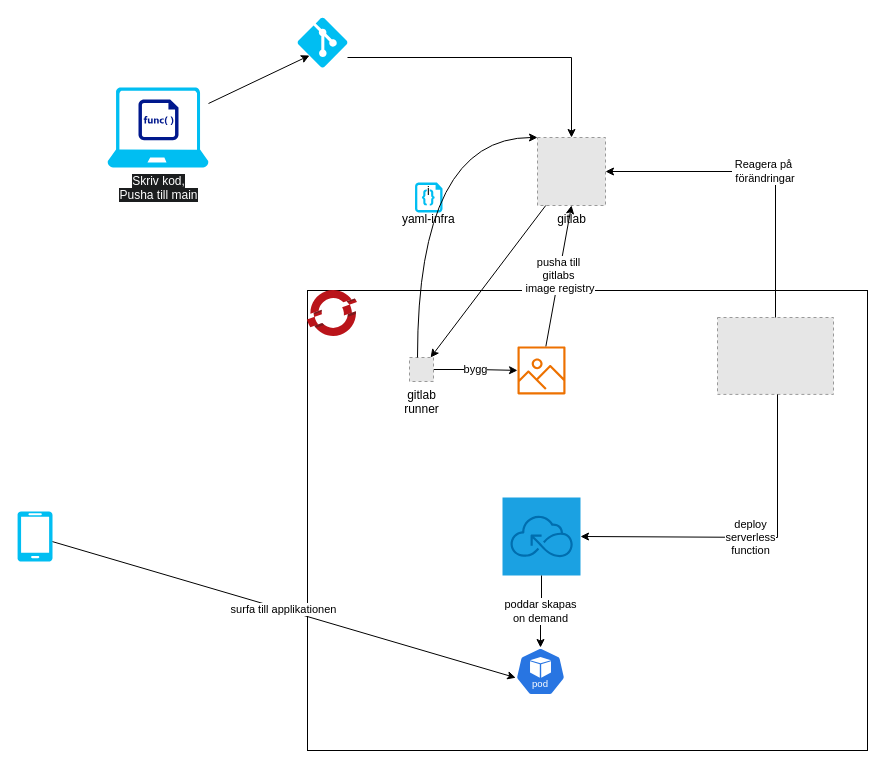
Some shapes in this 885 by 768 pixel diagram are drawn without their labels. Grey dashed boxes stand in for pictures. The shapes that lost their labels are listed below. From the top down, each one's centre as x and y in pixels, then its label:
At (x=322, y=42): "git".
At (x=541, y=370): "image".
